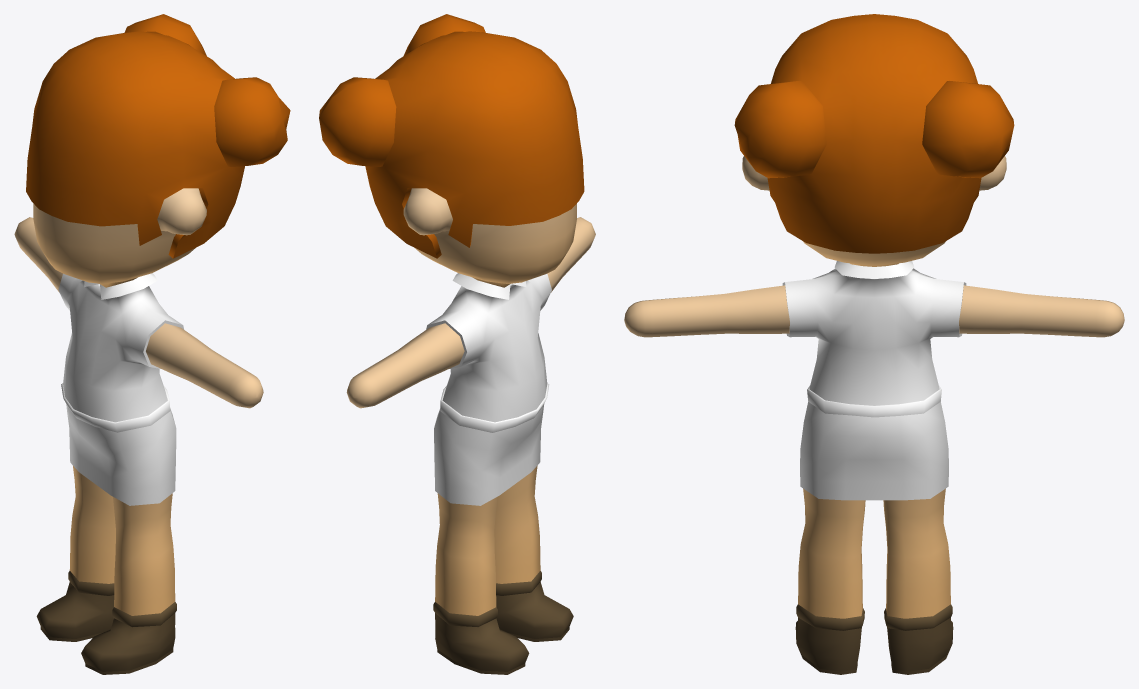
The model's file is FemaleStudent-JUST FBX.fbx.
The picture shows the model from 3 angles, left to right: view 1: azimuth 30°, elevation 25°; view 2: azimuth 150°, elevation 25°; view 3: azimuth 270°, elevation 25°; orthographic projection. The views are drawn at different scales.
Visible parts, largest first — view 1: Cube.019; view 2: Cube.019; view 3: Cube.019.
Part boxes in pixels (x1,y1,x2,y2): Cube.019: (14, 14, 290, 674); Cube.019: (319, 14, 595, 674); Cube.019: (624, 14, 1124, 674).
Size of the model in its own units: 0.7648 by 2.13 by 1.51.
